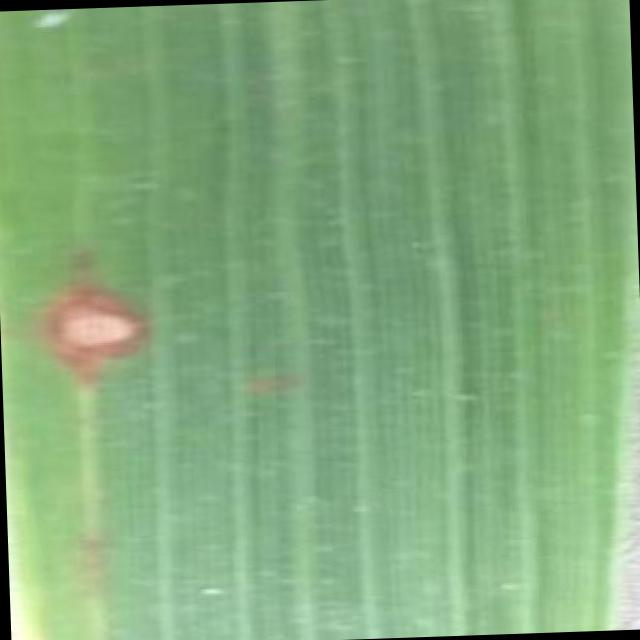Rice_Blast: (16, 228, 213, 435)
